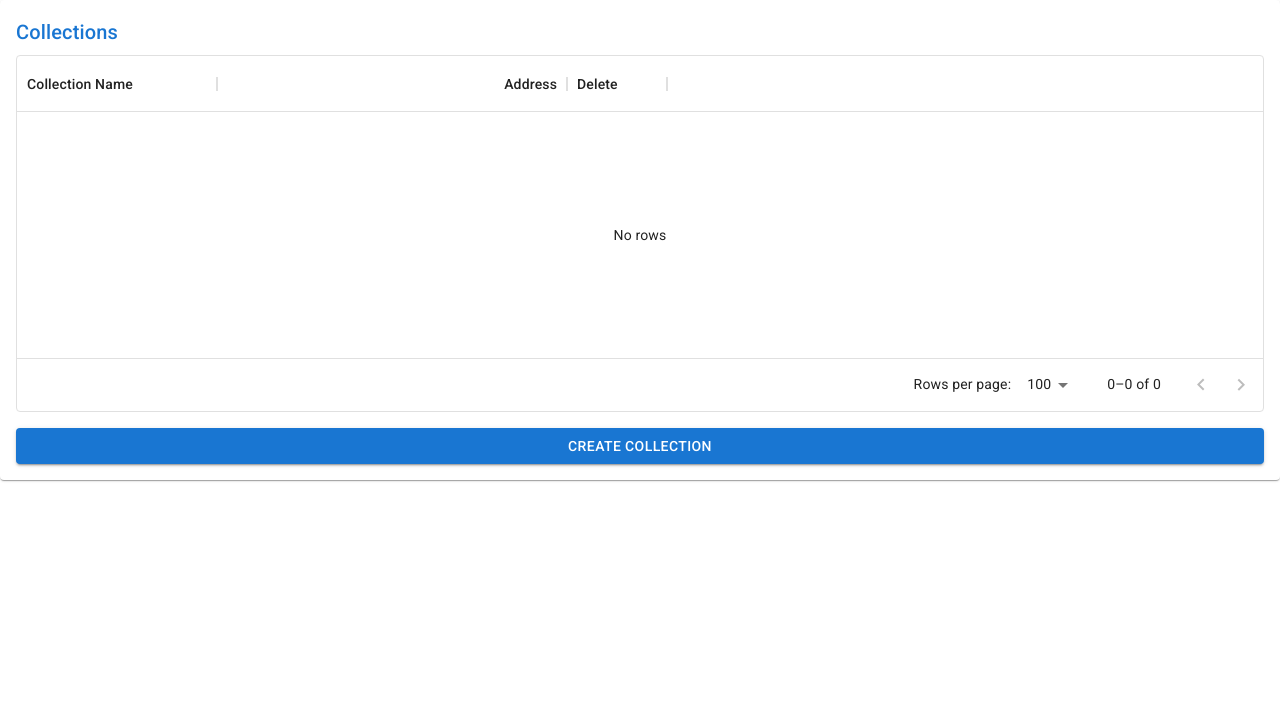
Scenario: <Collections /> › Create collection
The image size is (1280, 720).
Click the button "Create Collection" at (640, 446), box [16,428,1264,464]
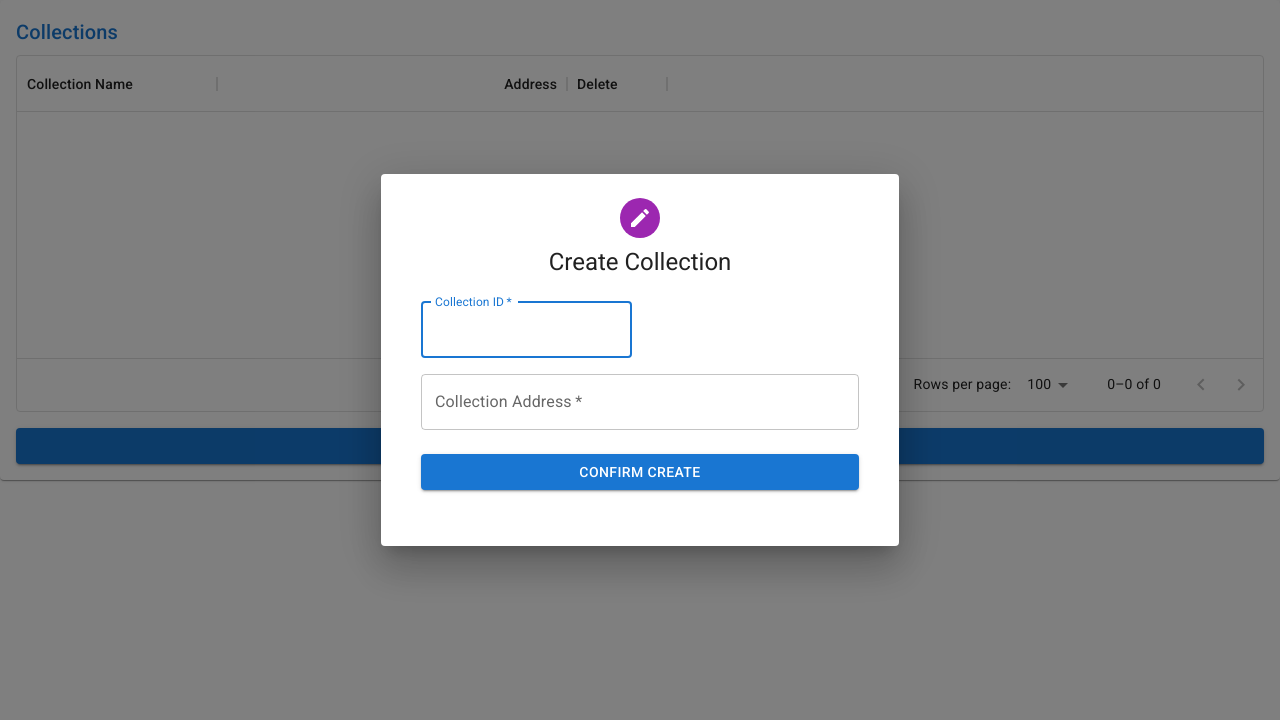
Result: the button "Confirm Create" is shown
Click the button "Confirm Create" at (640, 472), box [421,454,859,490]
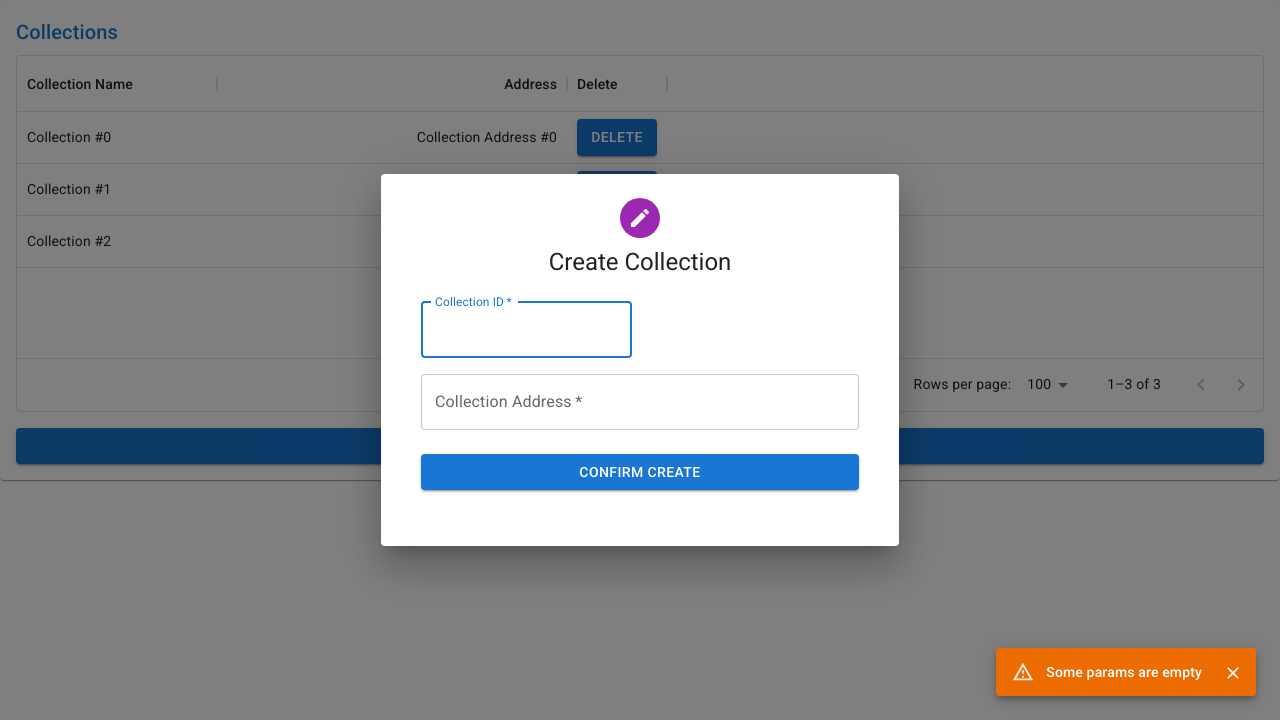
Result: the text "Some params are empty" is shown at [1046,664,1202,680]
Type "Test Collection Name" into the field labelled "Collection ID *" at (526, 330), box [421,302,632,358]
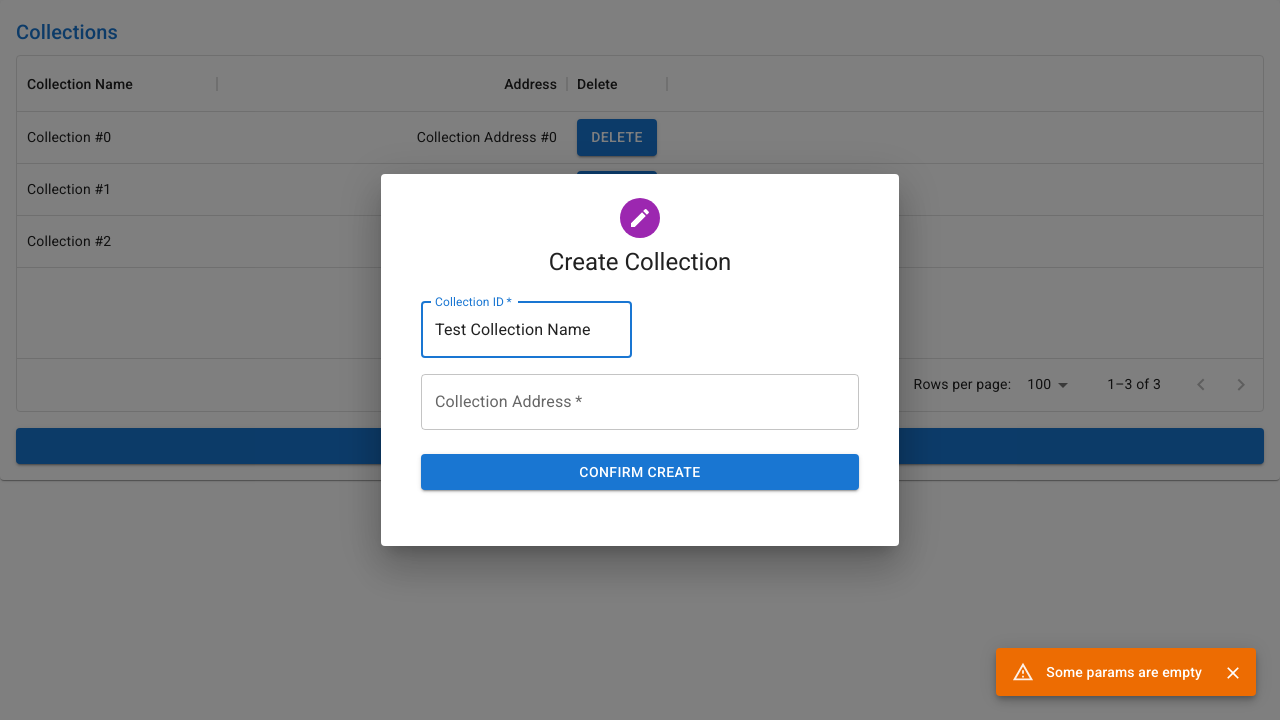
Type "Test Collection Address" into the field labelled "Collection Address *" at (640, 402), box [421,374,859,430]
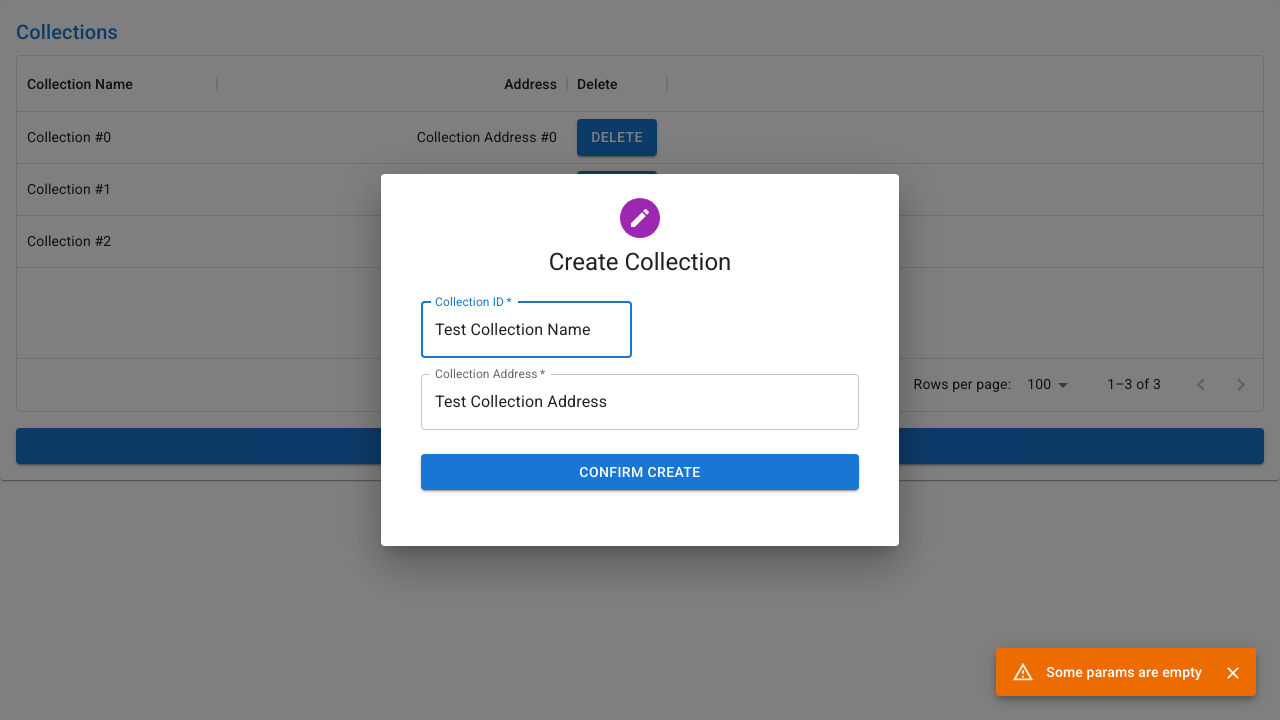
Click the button "Confirm Create" at (640, 472), box [421,454,859,490]
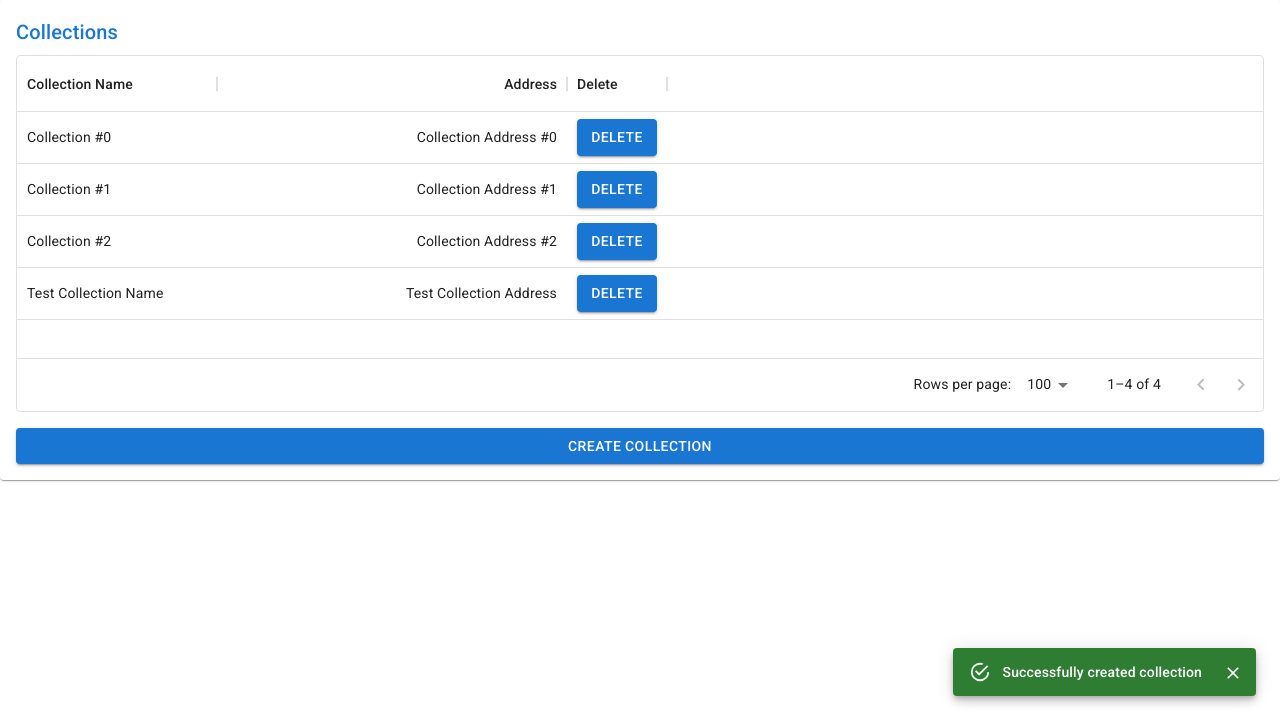
Result: the text "Successfully created collection" is shown at [1002,664,1202,680]
Result: the text "Test Collection Name" is shown at [27,284,164,304]
Result: the text "Test Collection Address" is shown at [406,284,557,304]
